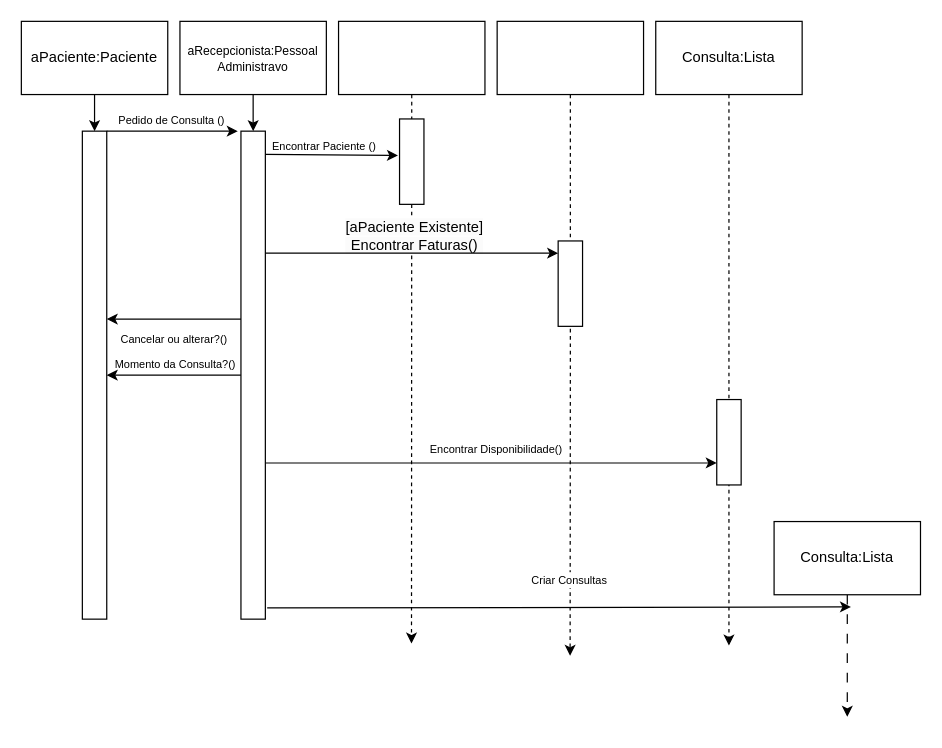
The diagram is 942 pixels wide and 748 high, and some of its shapes have lost their labels. Each missing label, with the box of its shape:
Faturas:Lista: (496, 20, 644, 95)
Paciente:Lista: (337, 20, 485, 95)
